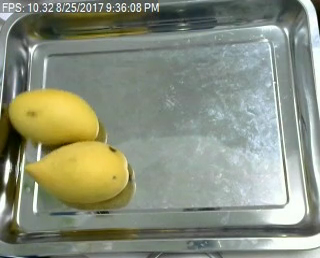Mango: (30, 140, 136, 210), (10, 76, 102, 145)
